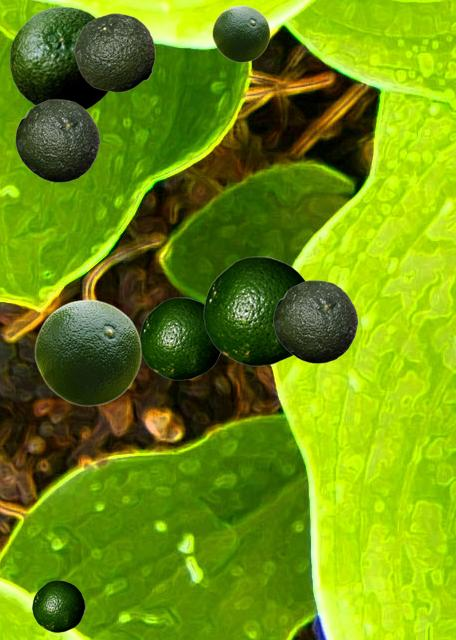calamansi: (34, 299, 141, 405), (203, 256, 305, 365), (9, 6, 108, 109), (273, 280, 357, 362), (15, 99, 99, 181), (139, 297, 220, 379), (74, 13, 154, 91), (212, 5, 269, 61), (32, 580, 84, 631)
